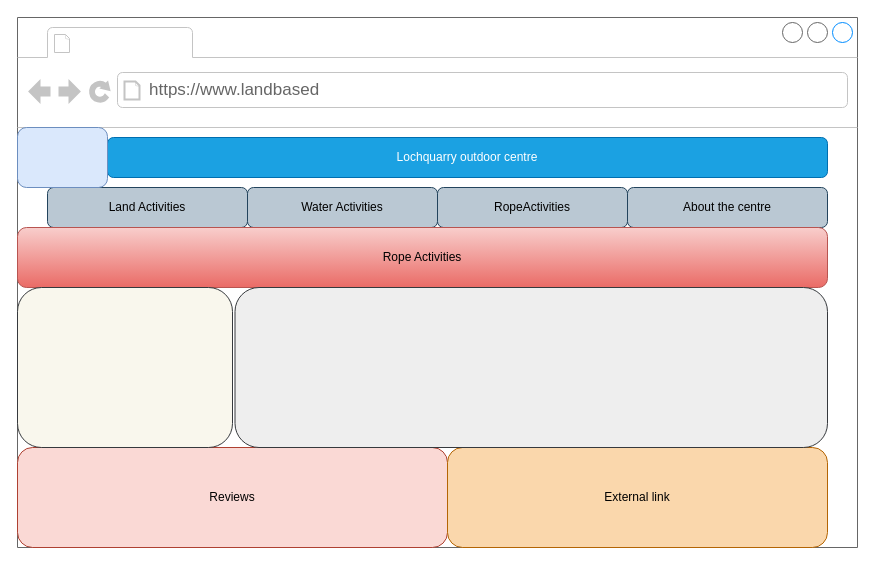
Some shapes in this 875 by 565 pixel diagram are drawn without their labels. The shapes that lost their labels are listed below. From the top down, each one's centre as x and y in pixels, then its label:
At pixel 132 42: "Homepage".
At pixel 62 157: "Logo".
At pixel 124 367: "Photo".
At pixel 531 367: "Activities list and description details".
